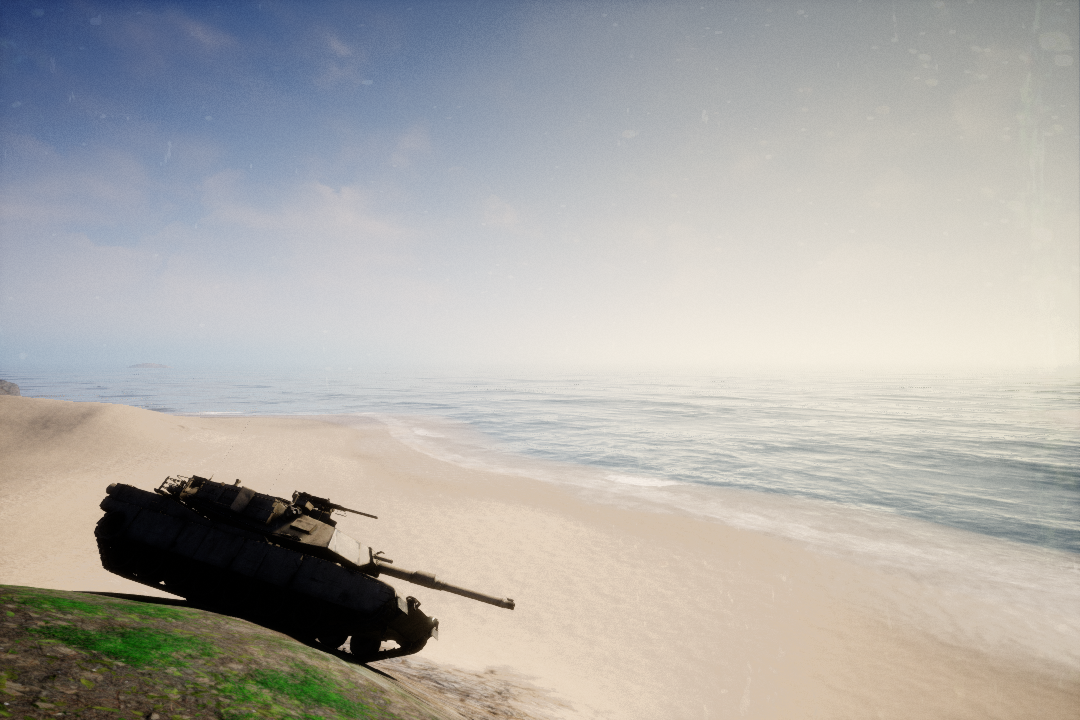tank: (88, 460, 527, 669)
